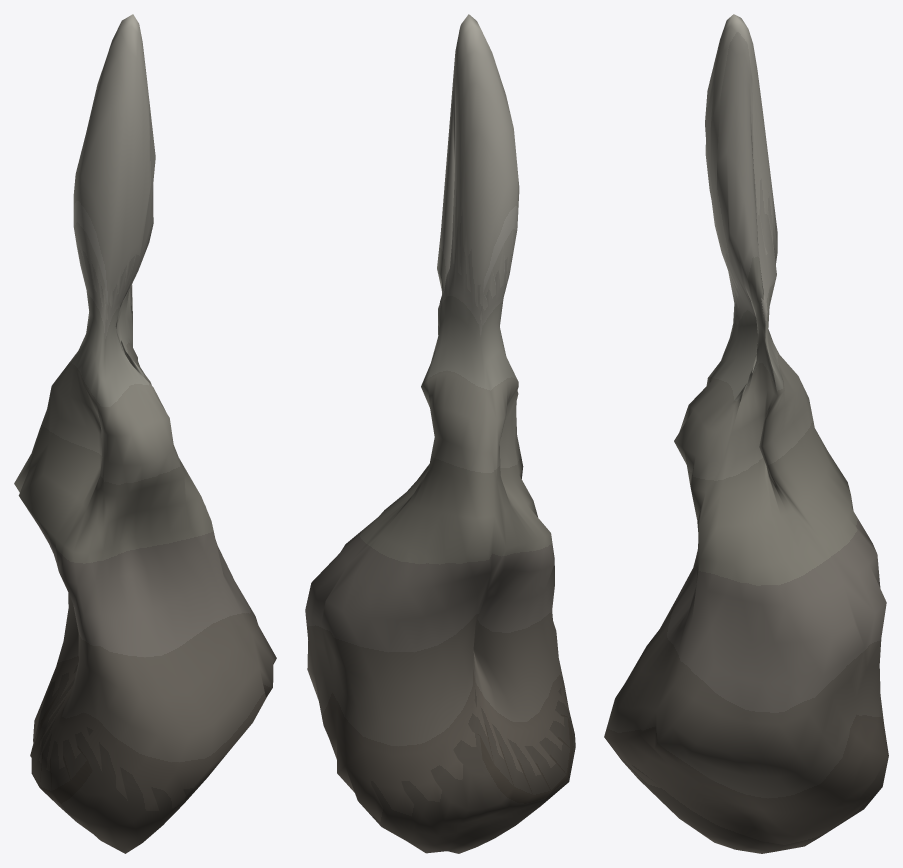
Rendered from DL_Obj_Level5_MineStalagmite4.fbx.
3 renders of one model, left to right at view 1: azimuth 30°, elevation 25°; view 2: azimuth 150°, elevation 25°; view 3: azimuth 270°, elevation 25°, orthographic.
Visible parts, largest first — view 1: Level5_MineStalagmite04; view 2: Level5_MineStalagmite04; view 3: Level5_MineStalagmite04.
Part boxes in pixels (<box>): Level5_MineStalagmite04: <box>14,14,276,853</box>; Level5_MineStalagmite04: <box>305,14,575,853</box>; Level5_MineStalagmite04: <box>604,14,888,853</box>.
Size of the model in its own units: 123 by 433 by 133.
